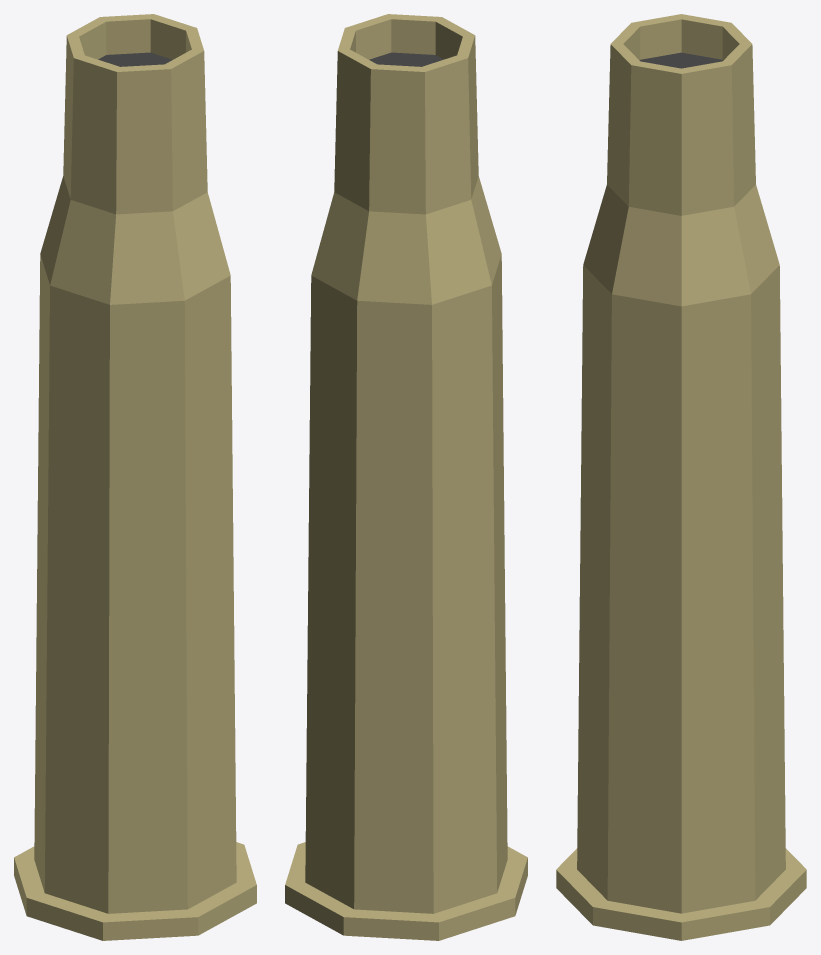
The model's file is CRTE-308.fbx.
The picture shows the model from 3 angles, left to right: view 1: azimuth 30°, elevation 25°; view 2: azimuth 150°, elevation 25°; view 3: azimuth 270°, elevation 25°; orthographic projection.
Parts seen in each view (by area): view 1: Cylinder.022; view 2: Cylinder.022; view 3: Cylinder.022.
Boxes of the visible parts, <box> form: Cylinder.022: <box>14,14,256,940</box>; Cylinder.022: <box>285,14,527,940</box>; Cylinder.022: <box>556,14,806,940</box>.
Size of the model in its own units: 39.87 by 148 by 39.87.
